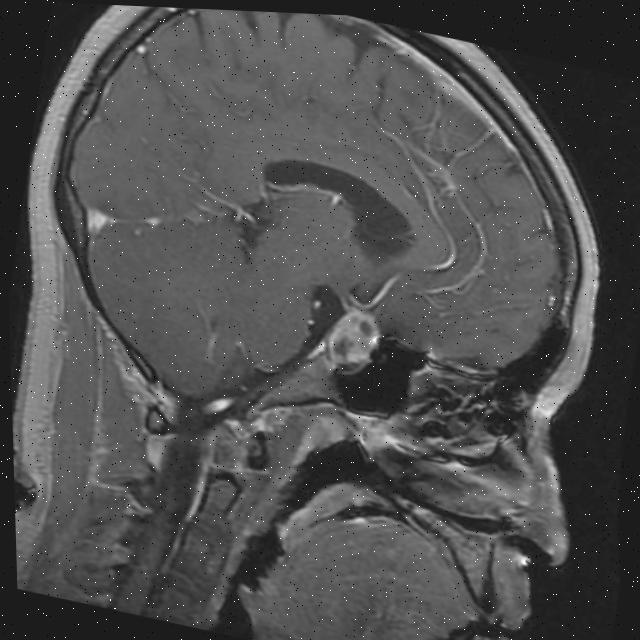Pituitary: (322, 305, 387, 374)
